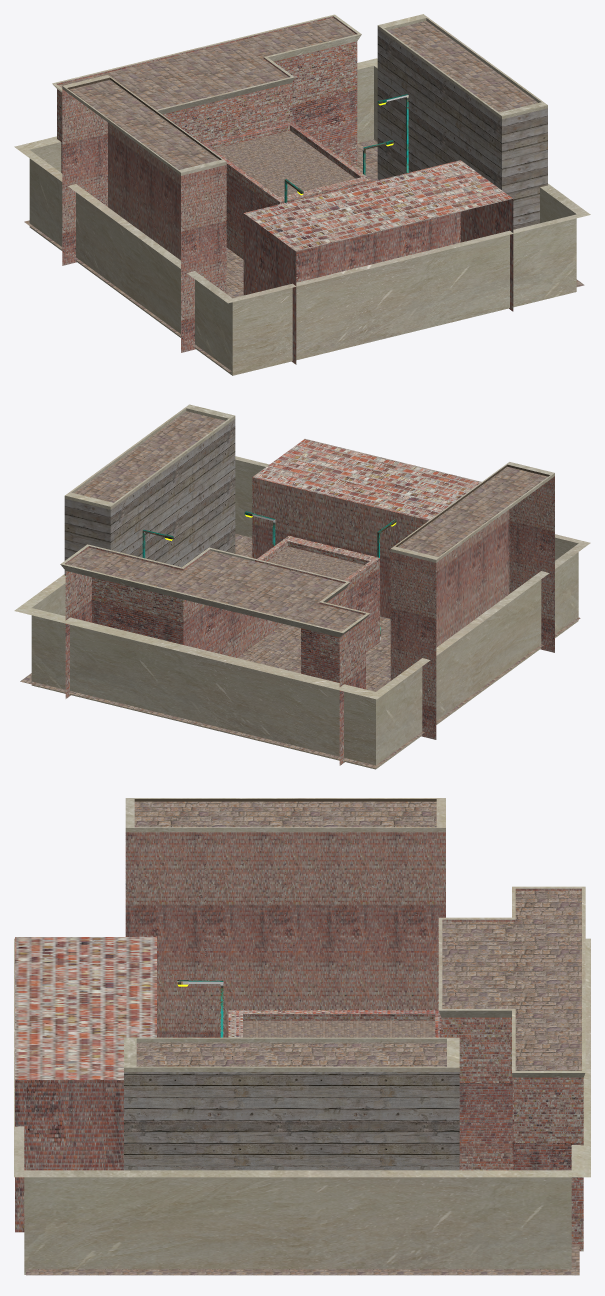
Rendered from freeshop.fbx.
3 views of the same model, one above another, from view 1: azimuth 30°, elevation 25°; view 2: azimuth 150°, elevation 25°; view 3: azimuth 270°, elevation 25° (orthographic). The views are drawn at different scales.
Parts seen in each view (by area): view 1: prim2; view 2: prim2; view 3: prim2.
Boxes of the visible parts, x1=… form: prim2: x1=14, y1=14, x2=590, y2=375; prim2: x1=14, y1=404, x2=590, y2=769; prim2: x1=14, y1=798, x2=590, y2=1275.
Size of the model in its own units: 3155 by 1473 by 3173.
6 materials, 5 textured.
